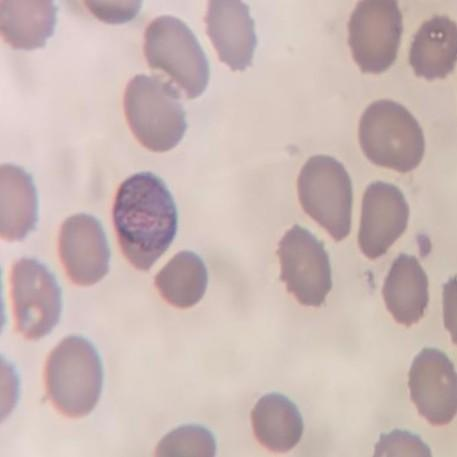Infected: (114, 170, 180, 275)
Uninfected: (144, 14, 209, 98), (41, 334, 104, 419), (359, 97, 426, 174), (124, 77, 190, 152), (276, 225, 334, 309), (299, 154, 350, 242), (7, 257, 60, 339), (348, 0, 404, 74), (409, 345, 457, 429), (359, 182, 411, 259), (56, 212, 110, 285), (209, 0, 258, 73), (381, 253, 427, 327), (154, 249, 210, 309), (406, 14, 457, 79), (251, 392, 305, 453), (0, 164, 39, 239)
